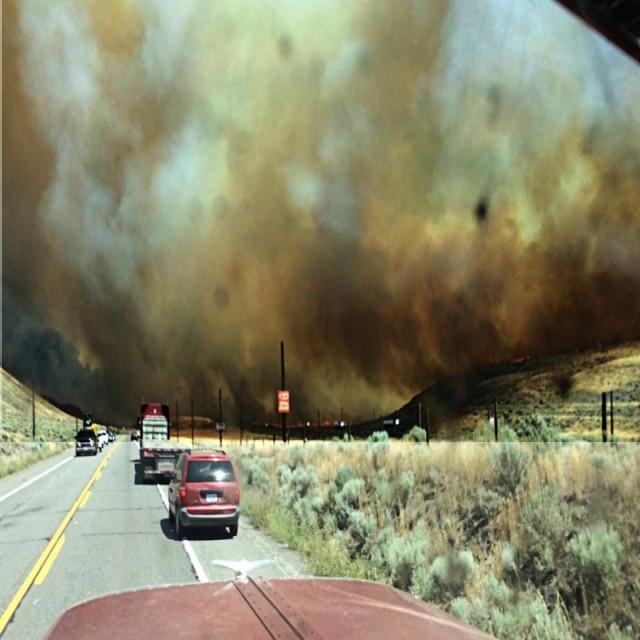Smoke: (2, 0, 640, 442)
